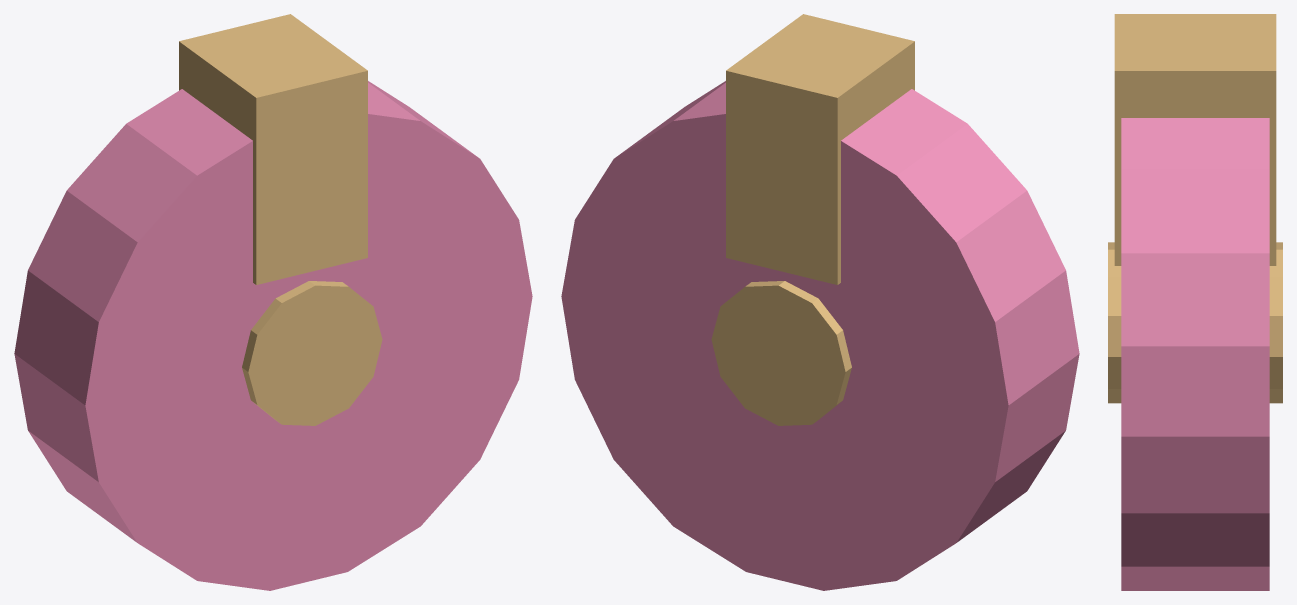
Rendered from DrumMag.obj.
The picture shows the model from 3 angles, left to right: view 1: azimuth 30°, elevation 25°; view 2: azimuth 150°, elevation 25°; view 3: azimuth 270°, elevation 25°; orthographic projection. The views are drawn at different scales.
Parts seen in each view (by area): view 1: DrumMag_Body, DrumMag_Detail; view 2: DrumMag_Body, DrumMag_Detail; view 3: DrumMag_Body, DrumMag_Detail.
Part boxes in pixels (<box>): DrumMag_Body: <box>14,81,532,590</box>; DrumMag_Detail: <box>179,14,382,425</box>; DrumMag_Body: <box>561,81,1079,590</box>; DrumMag_Detail: <box>711,14,914,425</box>; DrumMag_Body: <box>1121,118,1269,590</box>; DrumMag_Detail: <box>1108,14,1282,403</box>.
Size of the model in its own units: 0.4 by 0.427 by 0.13.
